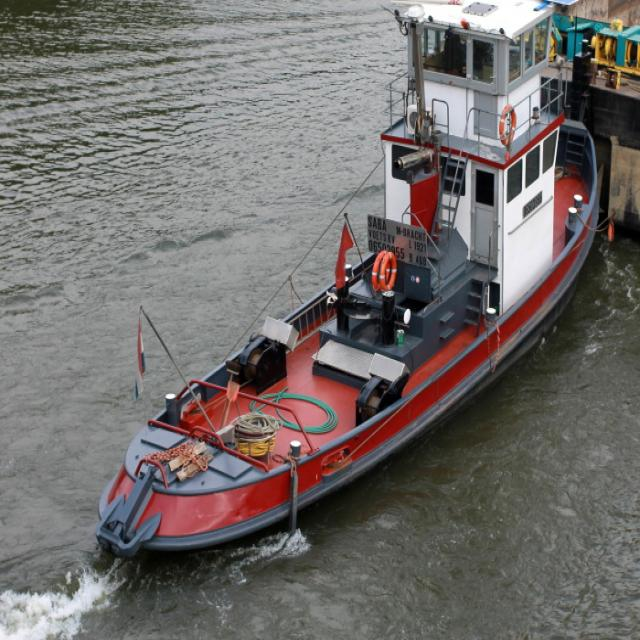tugboat: (90, 1, 619, 579)
